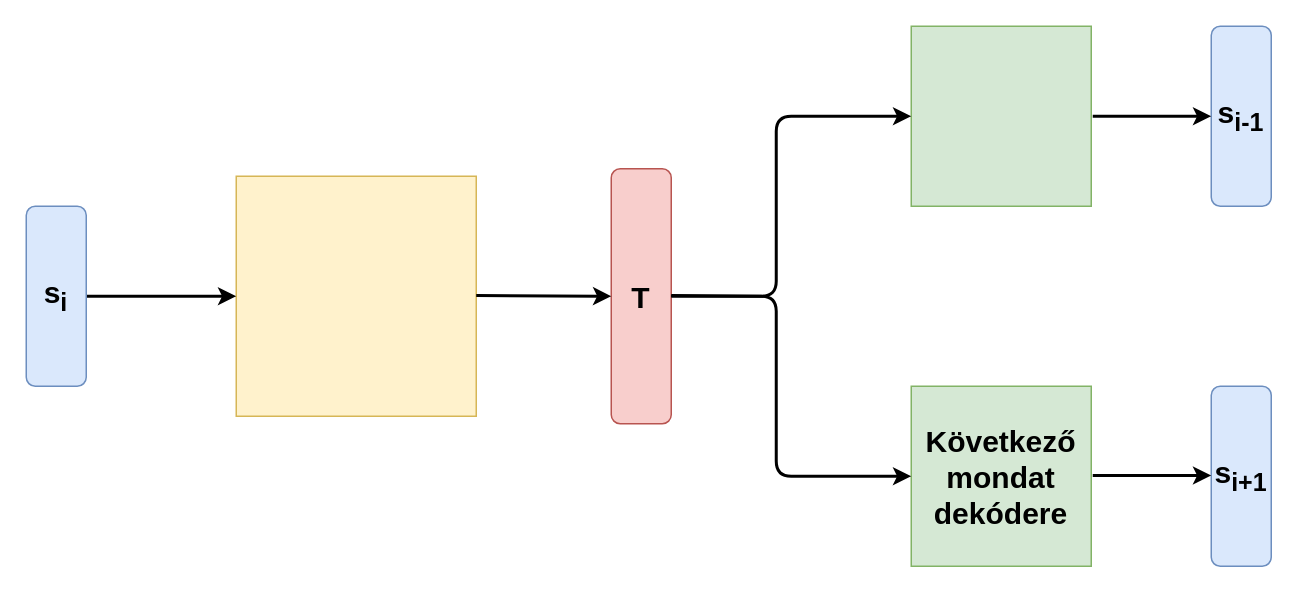
Image size: 1298x593. Some labels were removed from this diagram. Each missing label, with the box of its shape:
Előző mondat dekódere: (910, 25, 1091, 206)
Enkóder: (235, 175, 476, 416)
